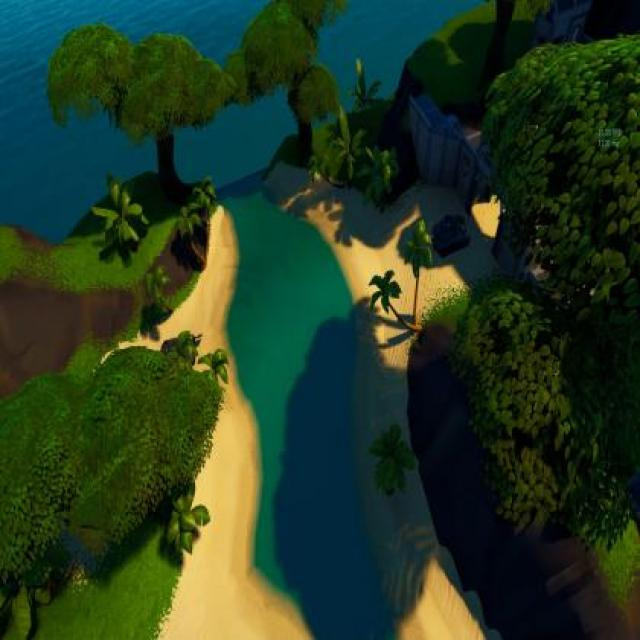tank: (424, 210, 474, 261), (157, 329, 204, 373)
